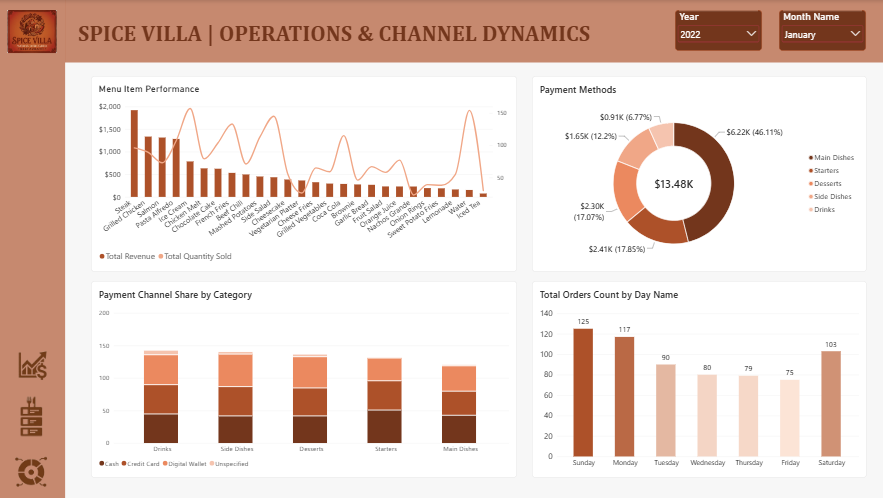

The dashboard page shown, as its layout file describes it:
{"tool":"powerbi","page":{"name":"Operations & Channel Dynamics","canvas":[1920,1080],"ordinal":2},"visuals":[{"type":"shape","box":[0,0,145,1080],"z":0},{"type":"image","box":[30,727.5,85,120],"z":0,"group":"g1"},{"type":"shape","box":[145,0,1775,135],"z":1000},{"type":"image","box":[25,847.5,92.5,105],"z":1000,"group":"g1"},{"type":"textbox","box":[172.5,42.5,1272.5,72.5],"z":2000},{"type":"image","box":[22.5,975,100,80],"z":2000,"group":"g1"},{"type":"slicer","fields":{"Values":["spice_villa_data.Year"]},"box":[1462.5,22.5,187.5,87.5],"z":3000},{"type":"slicer","fields":{"Values":["Date.Month Name"]},"box":[1687.5,22.5,187.5,87.5],"z":4000},{"type":"image","box":[10,22.5,125,92.5],"z":5000},{"type":"lineClusteredColumnComboChart","title":"Menu Item Performance","fields":{"Category":["spice_villa_data.Item"],"Y":["spice_villa_data.Total Revenue"],"Y2":["spice_villa_data.Total Quantity Sold"]},"box":[200,165,920,422.5],"z":6000},{"type":"donutChart","title":"Payment Methods","fields":{"Category":["spice_villa_data.Category"],"Y":["spice_villa_data.Total Revenue"]},"box":[1152.5,165,722.5,422.5],"z":7000},{"type":"columnChart","title":"Payment Channel Share by Category","fields":{"Category":["spice_villa_data.Category"],"Series":["spice_villa_data.Payment Method"],"Y":["spice_villa_data.Total Orders Count"]},"box":[200,607.5,920,425],"z":8000},{"type":"clusteredColumnChart","fields":{"Category":["Date.Day Name"],"Y":["spice_villa_data.Total Orders Count"]},"box":[1152.5,607.5,722.5,425],"z":9000},{"type":"group","id":"g1","title":"Group 2","box":[22.5,727.5,100,327.5],"z":9001}]}

Visuals, with their boxes in screenshot pixels (x1, y1, x2, y2), scaled from the page's 1920x1080 canvas onto the 883x498 screenshot:
shape: BBox(0, 0, 67, 497)
image: BBox(14, 335, 53, 391)
shape: BBox(67, 0, 882, 62)
image: BBox(11, 391, 54, 439)
textbox: BBox(79, 20, 665, 53)
image: BBox(10, 450, 56, 486)
slicer - spice_villa_data.Year: BBox(673, 10, 759, 51)
slicer - Date.Month Name: BBox(776, 10, 862, 51)
image: BBox(5, 10, 62, 53)
"Menu Item Performance" lineClusteredColumnComboChart: BBox(92, 76, 515, 271)
"Payment Methods" donutChart: BBox(530, 76, 862, 271)
"Payment Channel Share by Category" columnChart: BBox(92, 280, 515, 476)
clusteredColumnChart - Date.Day Name x spice_villa_data.Total Orders Count: BBox(530, 280, 862, 476)
"Group 2" group: BBox(10, 335, 56, 486)
